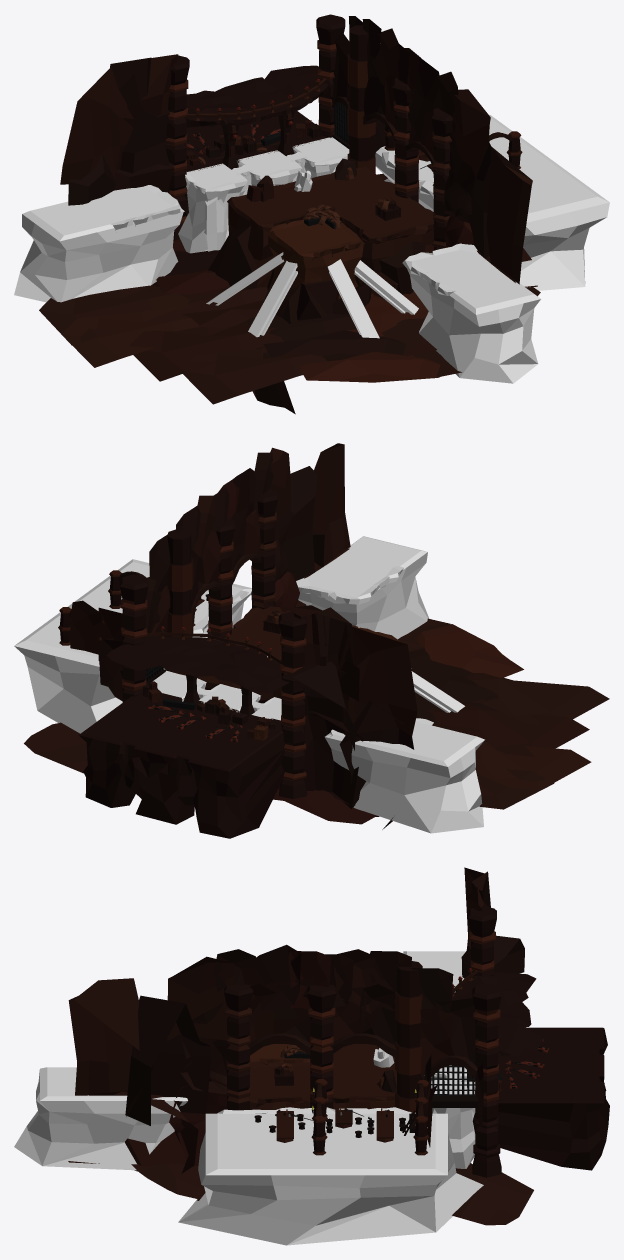
File: Room_4.fbx
3 renders of one model, top to bottom at view 1: azimuth 30°, elevation 25°; view 2: azimuth 150°, elevation 25°; view 3: azimuth 270°, elevation 25°, orthographic. The views are drawn at different scales.
Parts seen in each view (by area): view 1: Exterior, Floor, Wall_Right, Platform_Central, Walls_And_Stairs, Columns, Arch_with_walls, Platform_Spawn, Platform_Unreachable, Balcony, Pilars_Support, Decoration_back (+3 smaller); view 2: Wall_Right, Exterior, Floor, Walls_And_Stairs, Columns, Arch_with_walls, Balcony, Platform_Unreachable, Platform_Central, Decoration_back, Arch_Interior, Pilars_Support (+1 smaller); view 3: Exterior, Wall_Right, Arch_with_walls, Columns, Platform_Central, Floor, Balcony, Walls_And_Stairs, Platform_Unreachable, Table_And_Chairs, Arch_Interior, Platform_Spawn.
Part boxes in pixels (x1,y1,x2,y2): Exterior: [14, 115, 609, 383]; Floor: [39, 173, 540, 404]; Wall_Right: [185, 89, 532, 284]; Platform_Central: [208, 166, 434, 299]; Walls_And_Stairs: [60, 54, 349, 205]; Columns: [165, 14, 452, 250]; Arch_with_walls: [331, 16, 458, 164]; Platform_Spawn: [252, 220, 371, 414]; Platform_Unreachable: [178, 137, 349, 253]; Balcony: [185, 65, 328, 169]; Pilars_Support: [206, 252, 418, 338]; Decoration_back: [186, 120, 321, 166]; Wall_Right: [78, 443, 350, 838]; Exterior: [14, 536, 484, 833]; Floor: [24, 618, 609, 824]; Walls_And_Stairs: [70, 600, 417, 829]; Columns: [119, 488, 307, 799]; Arch_with_walls: [98, 452, 273, 701]; Balcony: [106, 626, 289, 716]; Platform_Unreachable: [153, 670, 281, 720]; Platform_Central: [197, 606, 290, 703]; Decoration_back: [142, 681, 274, 740]; Arch_Interior: [58, 570, 196, 645]; Pilars_Support: [411, 668, 464, 712]; Exterior: [14, 951, 483, 1245]; Wall_Right: [68, 956, 609, 1173]; Arch_with_walls: [214, 944, 483, 1128]; Columns: [224, 906, 501, 1177]; Platform_Central: [250, 1044, 396, 1109]; Floor: [68, 1075, 533, 1225]; Balcony: [451, 968, 543, 1081]; Walls_And_Stairs: [426, 867, 524, 1147]; Platform_Unreachable: [431, 1065, 475, 1168]; Table_And_Chairs: [254, 1109, 416, 1142]; Arch_Interior: [311, 1079, 429, 1155]; Platform_Spawn: [250, 1044, 310, 1064].
Size of the model in its own units: 63.59 by 36.6 by 65.17.
